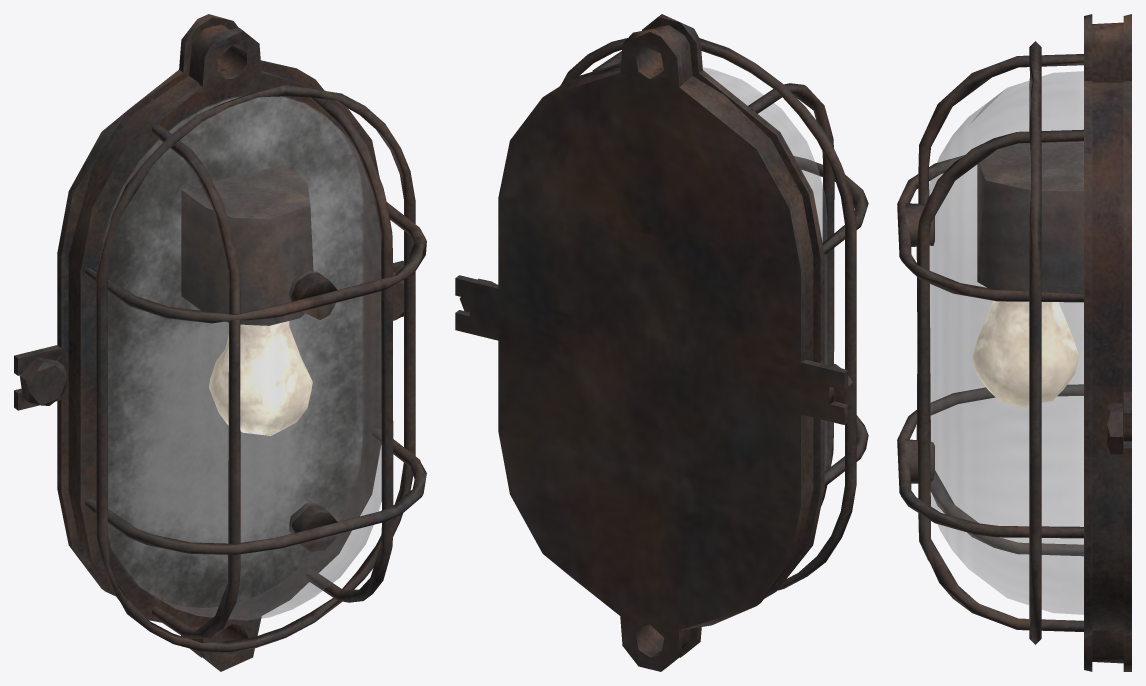
The model's file is ph2_industrial_wall_lamp.glb.
The picture shows the model from 3 angles, left to right: view 1: azimuth 30°, elevation 25°; view 2: azimuth 150°, elevation 25°; view 3: azimuth 270°, elevation 25°; orthographic projection.
Bounding box in the file's own units: 0.2735 × 0.4283 × 0.1404.
Materials: 2 (2 with a texture image).
